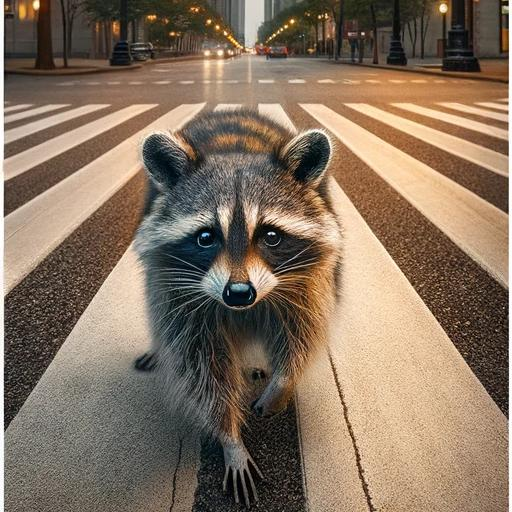raccoon: (125, 102, 352, 451)
